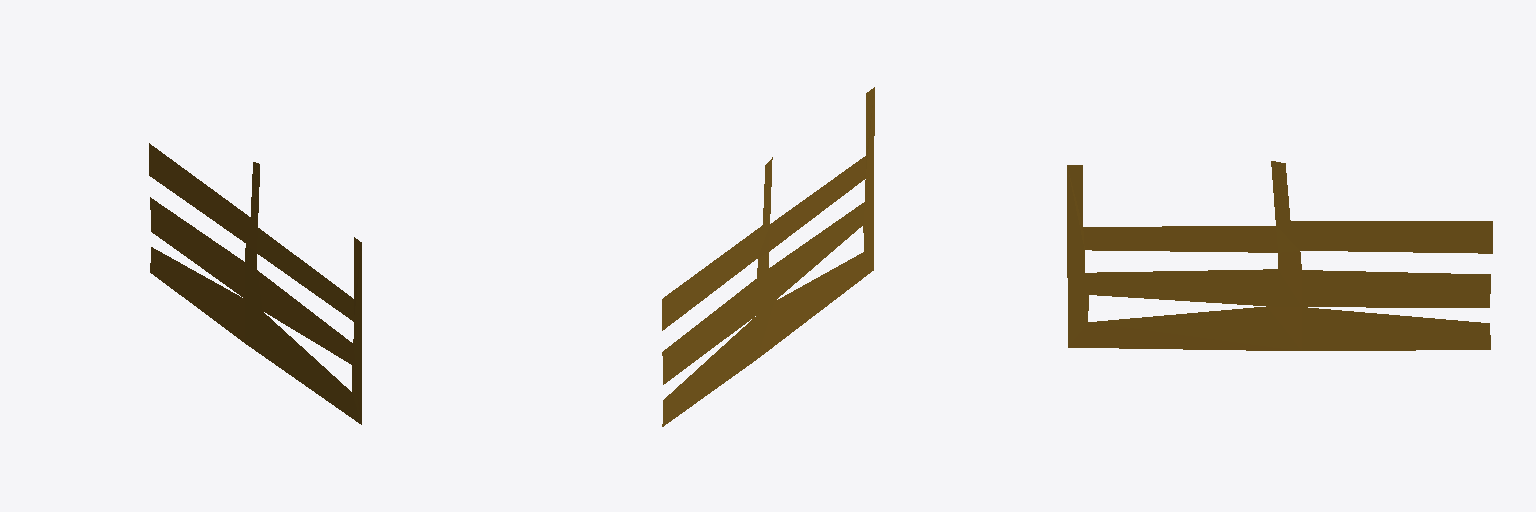
File: fence.obj
The picture shows the model from 3 angles: view 1: azimuth 30°, elevation 25°; view 2: azimuth 150°, elevation 25°; view 3: azimuth 270°, elevation 25°; orthographic projection.
Bounding box in the file's own units: 0.0047 × 4.45 × 9.01.